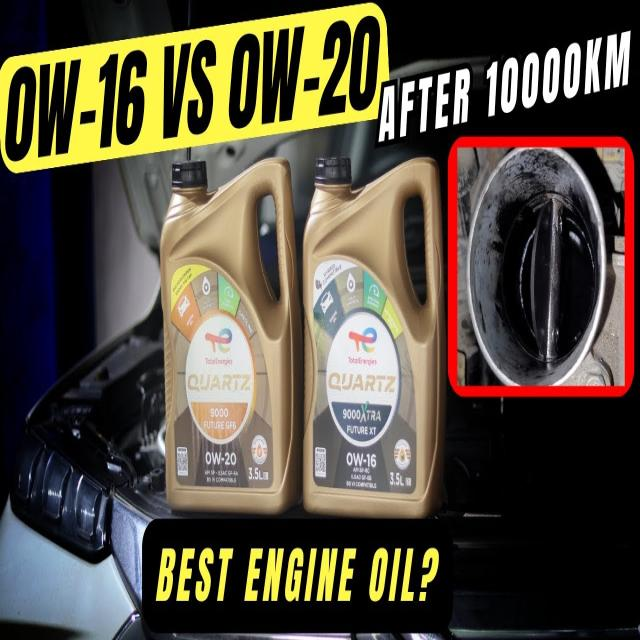motor_oil: (303, 154, 441, 524), (162, 151, 298, 517)
